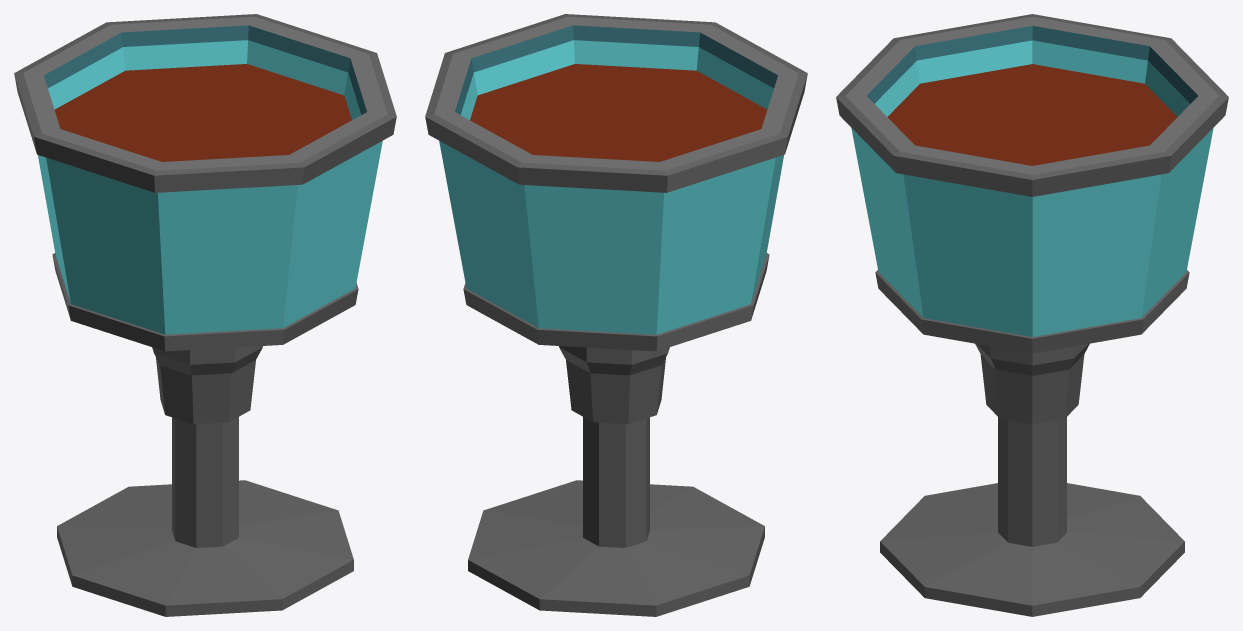
The model's file is Wooden Goblet.fbx.
3 renders of one model, left to right at view 1: azimuth 30°, elevation 25°; view 2: azimuth 150°, elevation 25°; view 3: azimuth 270°, elevation 25°, orthographic.
Visible parts, largest first — view 1: Wooden Goblet, Liquid; view 2: Wooden Goblet, Liquid; view 3: Wooden Goblet, Liquid.
Boxes of the visible parts, bbox=[...] form: Wooden Goblet: bbox=[14, 14, 396, 616]; Liquid: bbox=[54, 64, 351, 161]; Wooden Goblet: bbox=[425, 14, 807, 616]; Liquid: bbox=[470, 64, 767, 161]; Wooden Goblet: bbox=[836, 14, 1228, 616]; Liquid: bbox=[887, 64, 1177, 165].
Bounding box in the file's own units: 0.4931 × 0.4931 × 0.6325.
